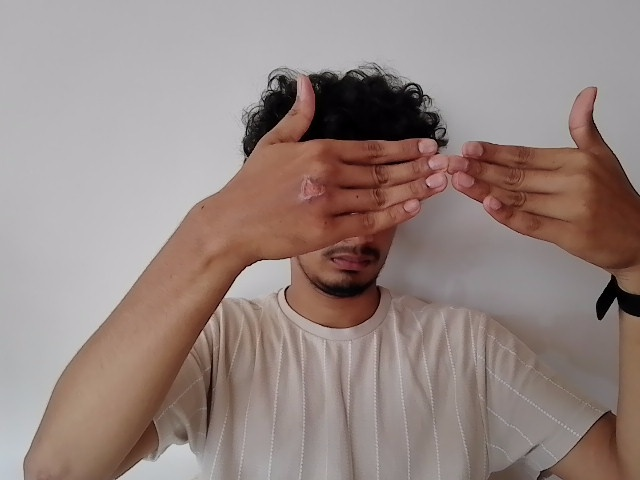family: (199, 72, 640, 281)
